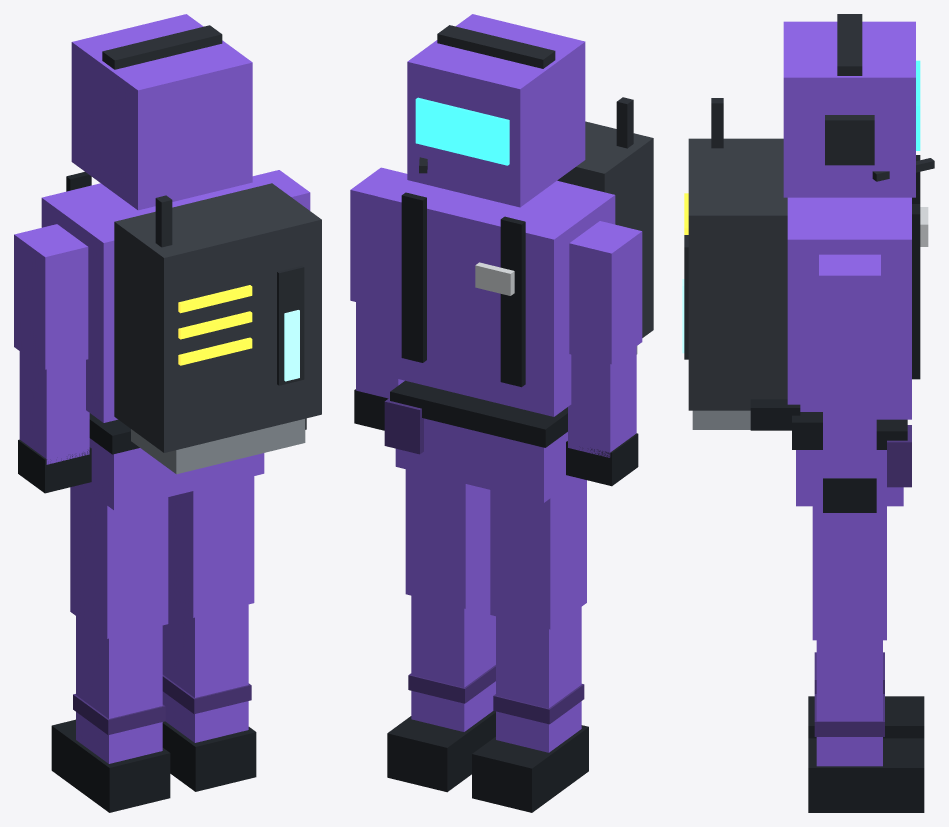
The model's file is ion_rig_purple.glb.
3 renders of one model, left to right at view 1: azimuth 30°, elevation 25°; view 2: azimuth 150°, elevation 25°; view 3: azimuth 270°, elevation 25°, orthographic.
Visible parts, largest first — view 1: Merged4, Merged, Merged5, Merged6, _MeshInstance3D_3090, _MeshInstance3D_3101, _MeshInstance3D_3085, Merged2, Merged7, _MeshInstance3D_3096; view 2: Merged4, Merged, Merged5, Merged6, Merged7, _MeshInstance3D_3090, _MeshInstance3D_3101, _MeshInstance3D_3085, Merged2, _MeshInstance3D_3096, Merged3; view 3: Merged4, Merged, Merged6, _MeshInstance3D_3101, _MeshInstance3D_3096, Merged3, Merged7, Merged5.
Boxes of the visible parts, <box> form: Merged4: <box>41,172,321,474</box>; Merged: <box>71,14,252,210</box>; Merged5: <box>51,616,170,812</box>; Merged6: <box>162,600,256,791</box>; _MeshInstance3D_3090: <box>70,485,168,638</box>; _MeshInstance3D_3101: <box>168,476,254,617</box>; _MeshInstance3D_3085: <box>14,224,88,369</box>; Merged2: <box>18,351,91,493</box>; Merged7: <box>79,413,264,510</box>; _MeshInstance3D_3096: <box>252,170,310,210</box>; Merged4: <box>377,97,653,416</box>; Merged: <box>407,14,585,207</box>; Merged5: <box>472,607,588,812</box>; Merged6: <box>387,591,495,792</box>; Merged7: <box>384,380,577,502</box>; _MeshInstance3D_3090: <box>490,478,586,629</box>; _MeshInstance3D_3101: <box>405,469,490,608</box>; _MeshInstance3D_3085: <box>569,221,642,364</box>; Merged2: <box>566,346,638,486</box>; _MeshInstance3D_3096: <box>350,167,407,307</box>; Merged3: <box>354,302,404,430</box>; Merged4: <box>682,98,928,444</box>; Merged: <box>783,14,934,197</box>; Merged6: <box>808,640,924,812</box>; _MeshInstance3D_3101: <box>812,506,886,640</box>; _MeshInstance3D_3096: <box>819,254,880,387</box>; Merged3: <box>823,388,876,512</box>; Merged7: <box>792,419,911,506</box>; Merged5: <box>808,652,924,738</box>.
Size of the model in its own units: 0.74 by 1.97 by 0.61.
